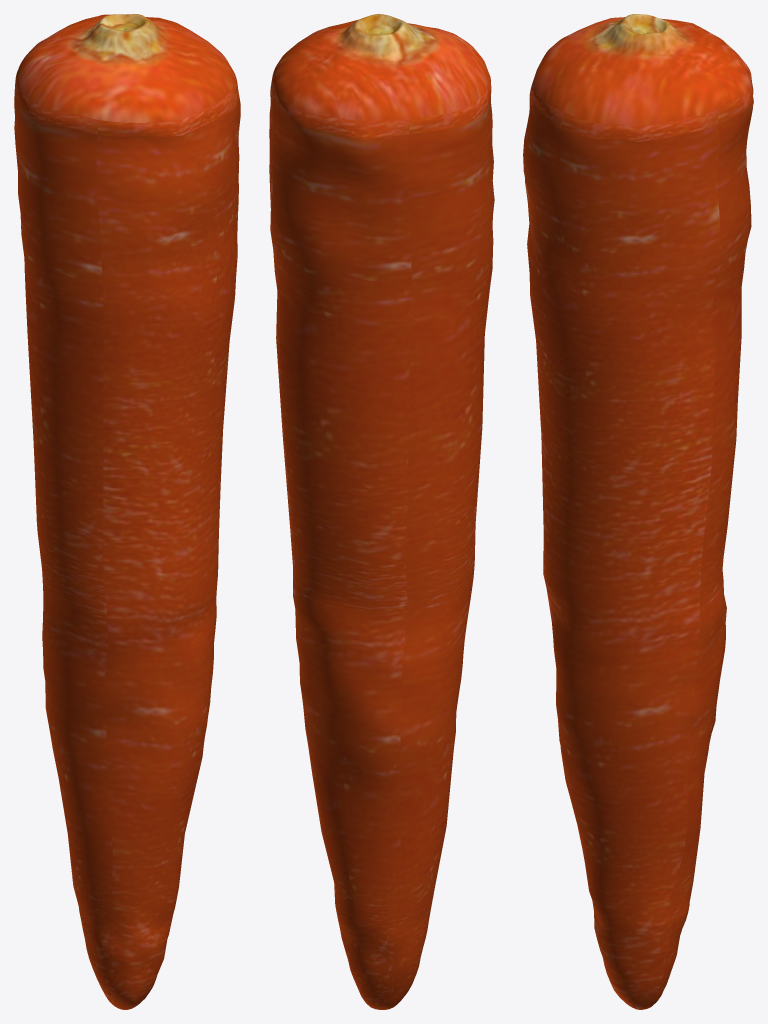
Rendered from Carrot.fbx.
3 renders of one model, left to right at view 1: azimuth 30°, elevation 25°; view 2: azimuth 150°, elevation 25°; view 3: azimuth 270°, elevation 25°, orthographic.
Parts seen in each view (by area): view 1: Line001; view 2: Line001; view 3: Line001.
Boxes of the visible parts, x1,y1,x2,y2 form: Line001: (14,14,240,1009); Line001: (269,14,494,1009); Line001: (523,14,753,1009).
Size of the model in its own units: 2.05 by 9.86 by 2.1.
1 material, 1 textured.
